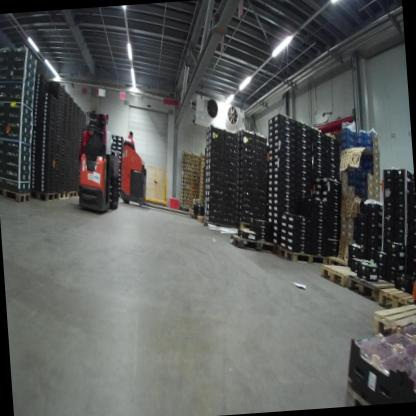pallet: (369, 299, 416, 357), (345, 269, 407, 311), (319, 259, 368, 293), (340, 370, 382, 406), (275, 241, 333, 267), (229, 228, 277, 258), (377, 284, 416, 313), (0, 181, 34, 202), (203, 217, 239, 235), (29, 189, 58, 205), (328, 253, 348, 269), (237, 218, 255, 229), (57, 189, 71, 202), (67, 185, 79, 200), (188, 209, 197, 220), (194, 214, 205, 222)
pallet_truck: (72, 99, 126, 216), (114, 120, 161, 210)
